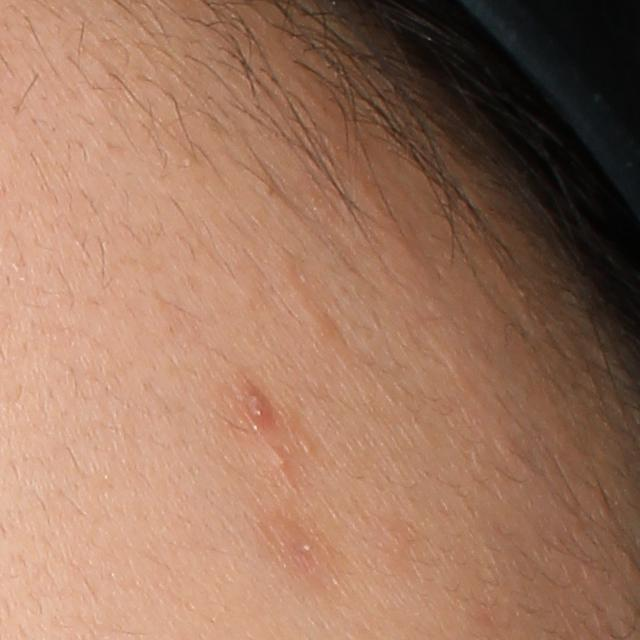papule: (235, 382, 275, 439)
